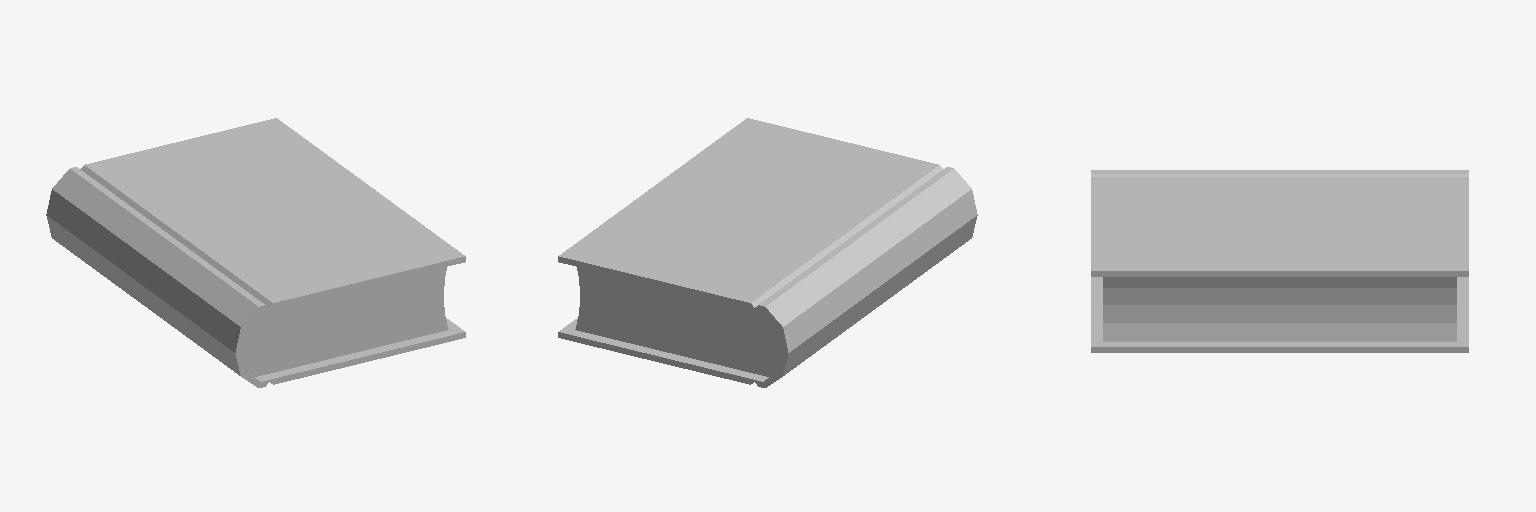
The model's file is Book_A__2.obj.
3 views of the same model, side by side, from view 1: azimuth 30°, elevation 25°; view 2: azimuth 150°, elevation 25°; view 3: azimuth 270°, elevation 25° (orthographic).
Parts seen in each view (by area): view 1: Cube1; view 2: Cube1; view 3: Cube1.
Part boxes in pixels (left/top/right/bottom): Cube1: left=46, top=118, right=465, bottom=387; Cube1: left=558, top=118, right=977, bottom=387; Cube1: left=1091, top=170, right=1468, bottom=352.
Bounding box in the file's own units: 2.35 × 0.796 × 3.34.